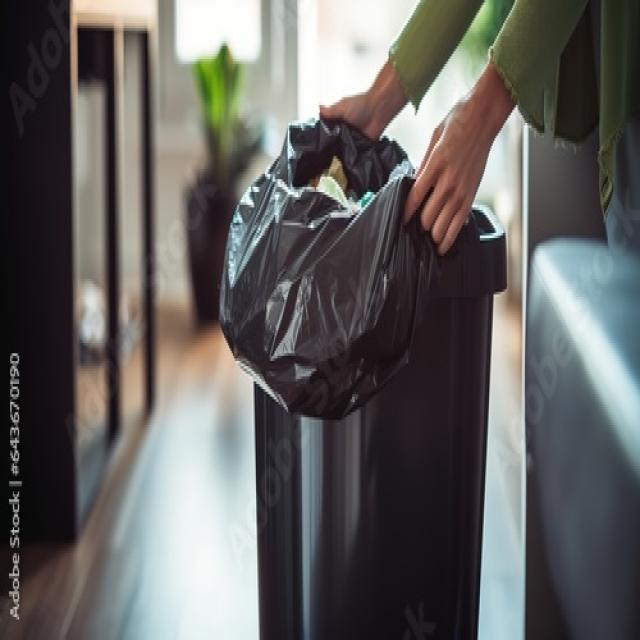metal: (247, 391, 496, 640)
trash: (224, 161, 416, 379)
